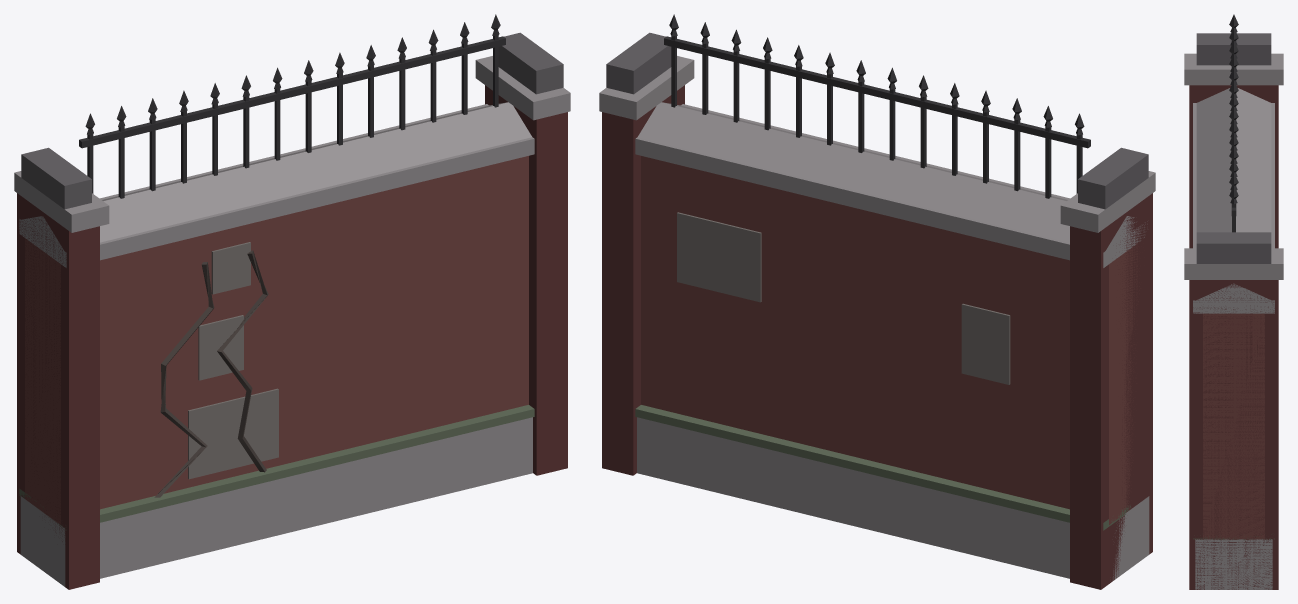
File: wall_segment.glb
3 views of the same model, side by side, from view 1: azimuth 30°, elevation 25°; view 2: azimuth 150°, elevation 25°; view 3: azimuth 270°, elevation 25° (orthographic). The views are drawn at different scales.
Parts seen in each view (by area): view 1: WallSegment; view 2: WallSegment; view 3: WallSegment.
Part boxes in pixels (x1,y1,x2,y2): WallSegment: (14, 14, 570, 589); WallSegment: (599, 14, 1155, 589); WallSegment: (1184, 14, 1283, 589).
Size of the model in its own units: 4 by 3.42 by 0.8.
